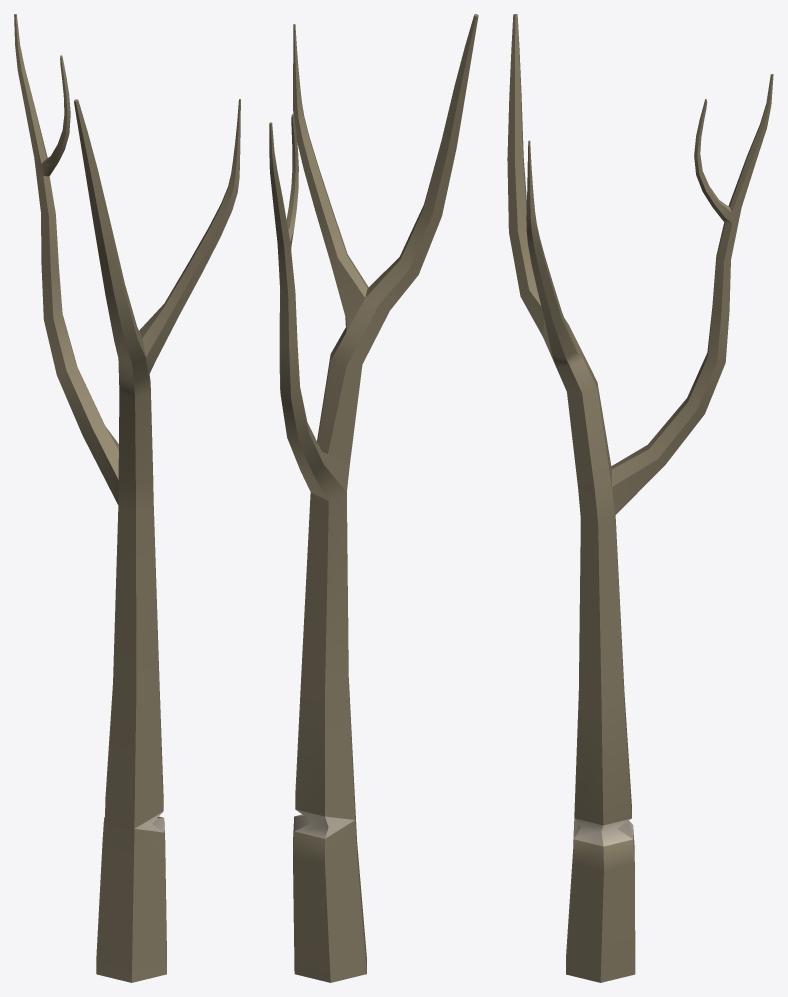
File: dead skinny tree cut.fbx
3 renders of one model, left to right at view 1: azimuth 30°, elevation 25°; view 2: azimuth 150°, elevation 25°; view 3: azimuth 270°, elevation 25°, orthographic. The views are drawn at different scales.
Visible parts, largest first — view 1: polySurface8; view 2: polySurface8; view 3: polySurface8.
Boxes of the visible parts, x1,y1,x2,y2 form: polySurface8: (14, 14, 240, 982); polySurface8: (269, 14, 478, 982); polySurface8: (507, 14, 773, 982).
Bounding box in the file's own units: 49.59 × 66.93 × 251.
